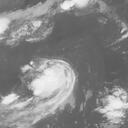cyclone: (28, 58, 76, 102)
